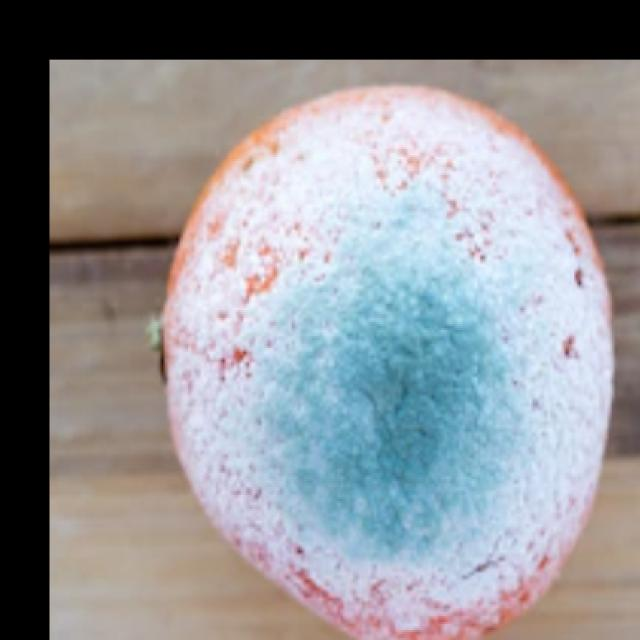sangat_busuk: (155, 86, 613, 640)
